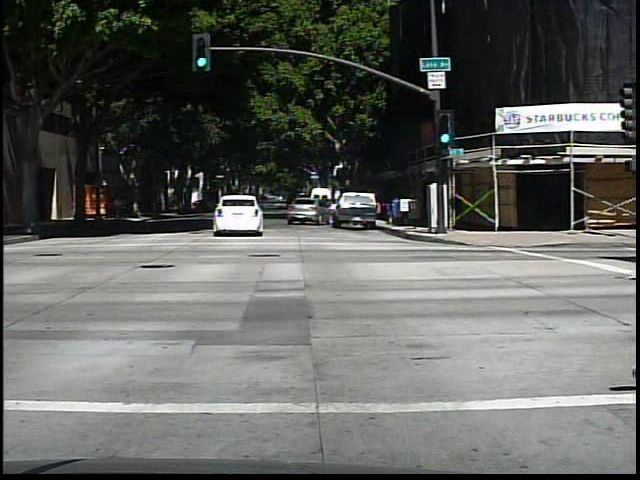person: (110, 192, 127, 222)
